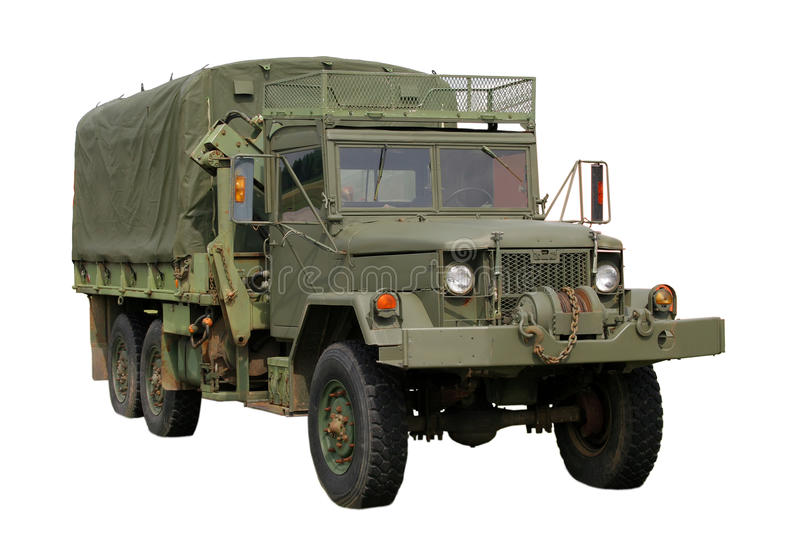camion: (77, 62, 723, 501)
